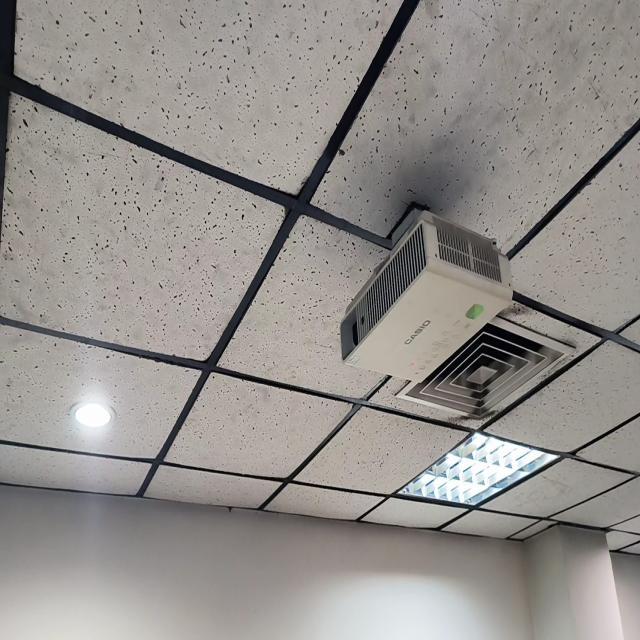Light: (398, 433, 556, 505), (74, 404, 111, 427)
Projector: (341, 210, 513, 381)
